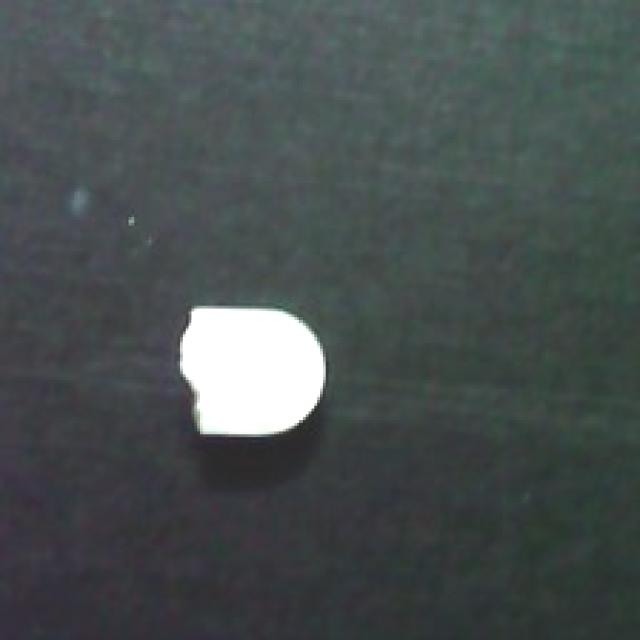defected: (169, 294, 334, 443)
